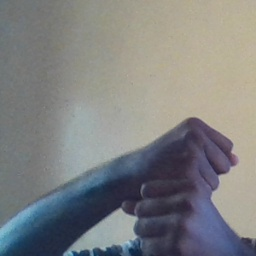G: (128, 110, 241, 256)
